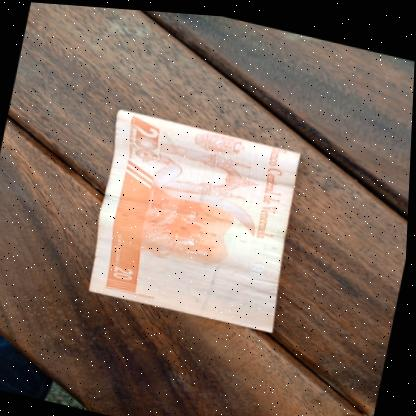vef_back: (82, 105, 312, 331)
